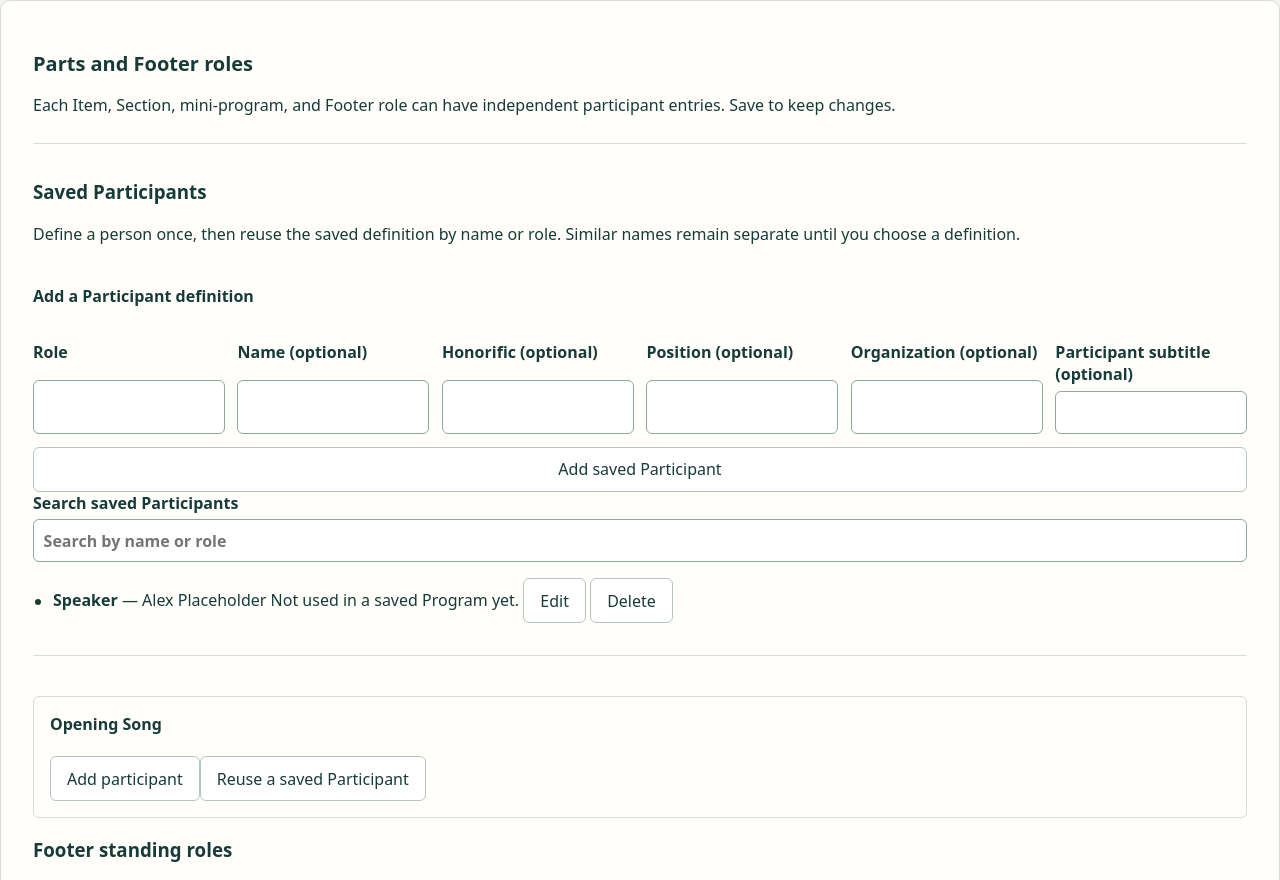
Test: explains that only the creator can edit a shared Participant definition
This screenshot has width=1280, height=880.
What coordinates should you click on to do the following:
click the button "Edit"
I would click on:
 (555, 601)
Its box is [523,578,586,623].
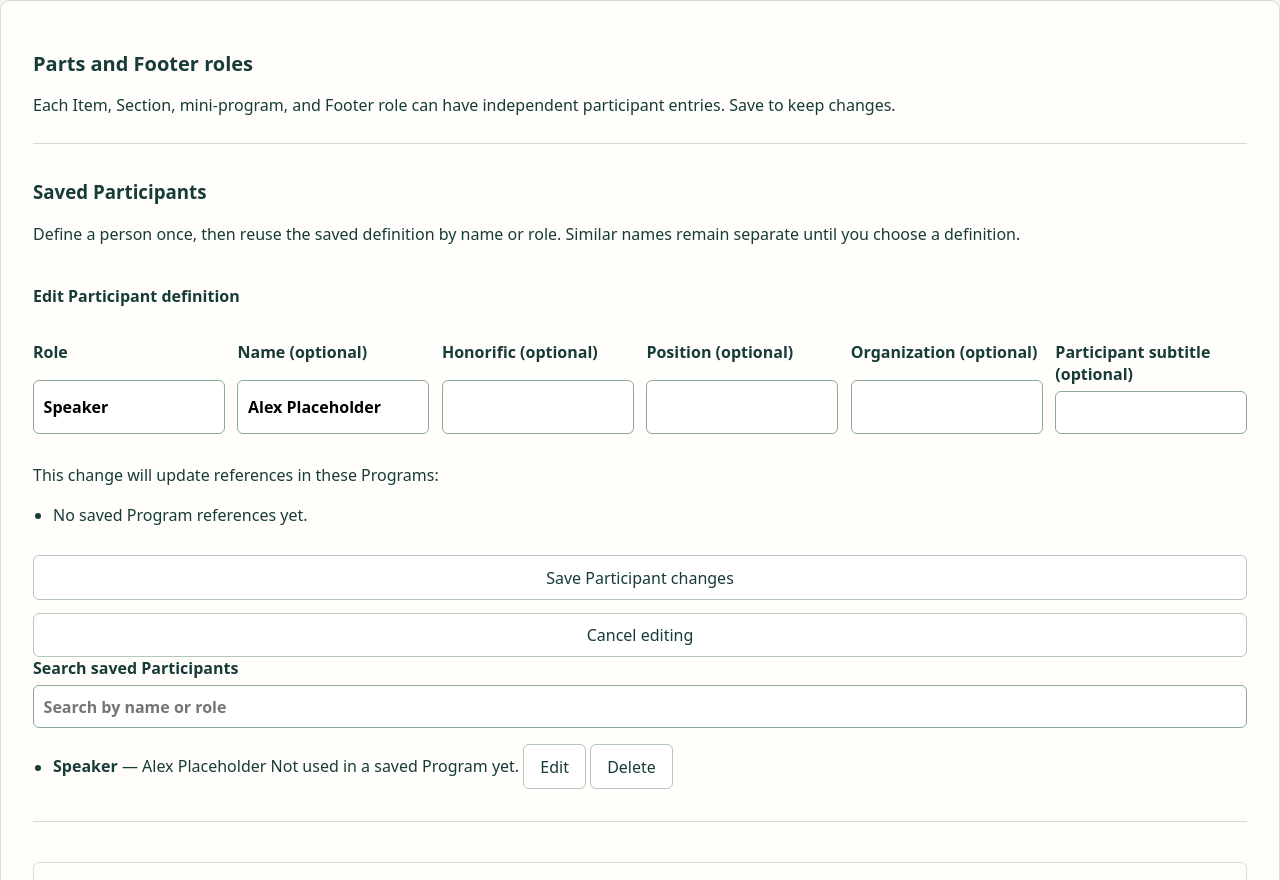
What coordinates should you click on to do the following:
click the button "Save Participant changes"
I would click on:
 (640, 578)
Its box is [33,555,1247,600].
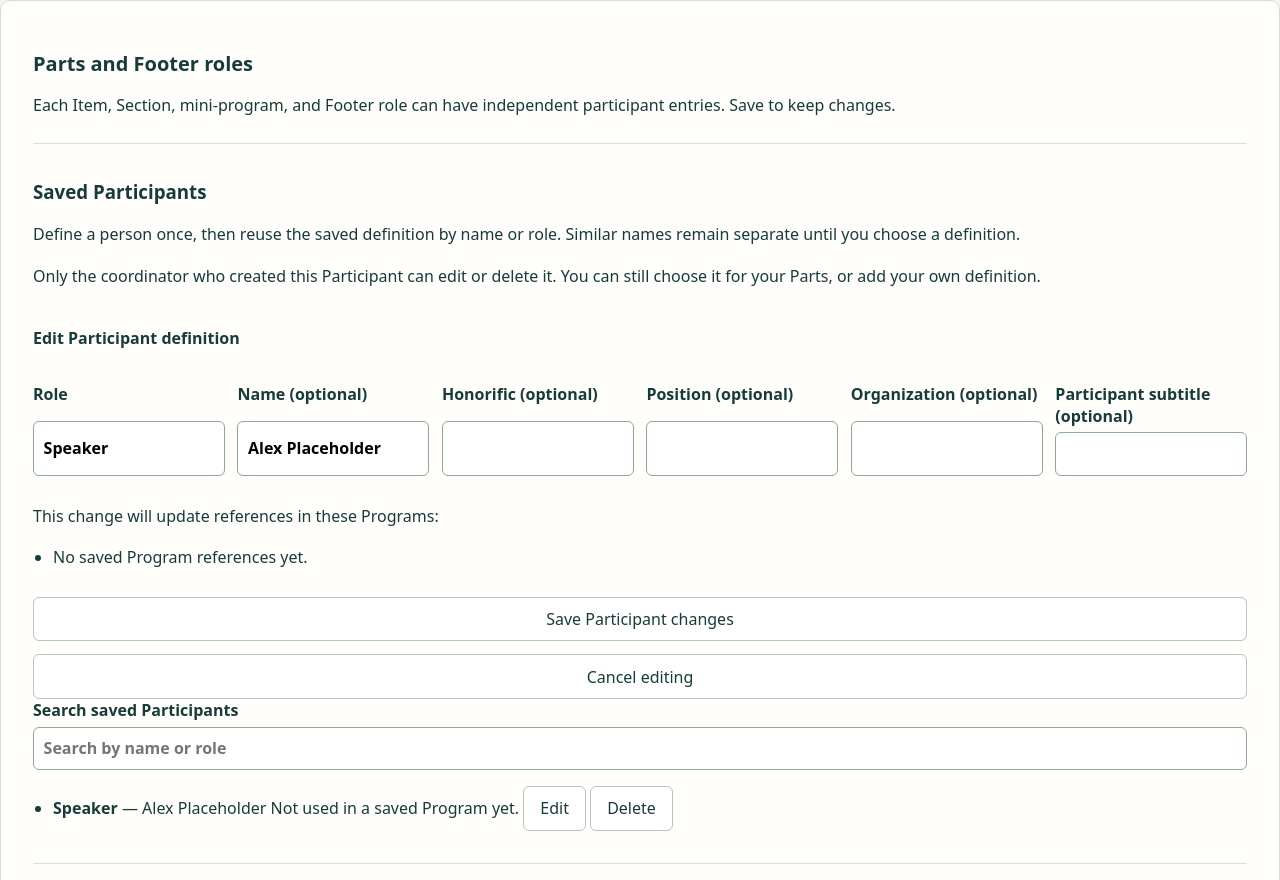
Result: the message shows "Only the coordinator who created this Participant can edit or delete it. You can still choose it for your Parts, or add your own definition." at [33,265,1041,287]
